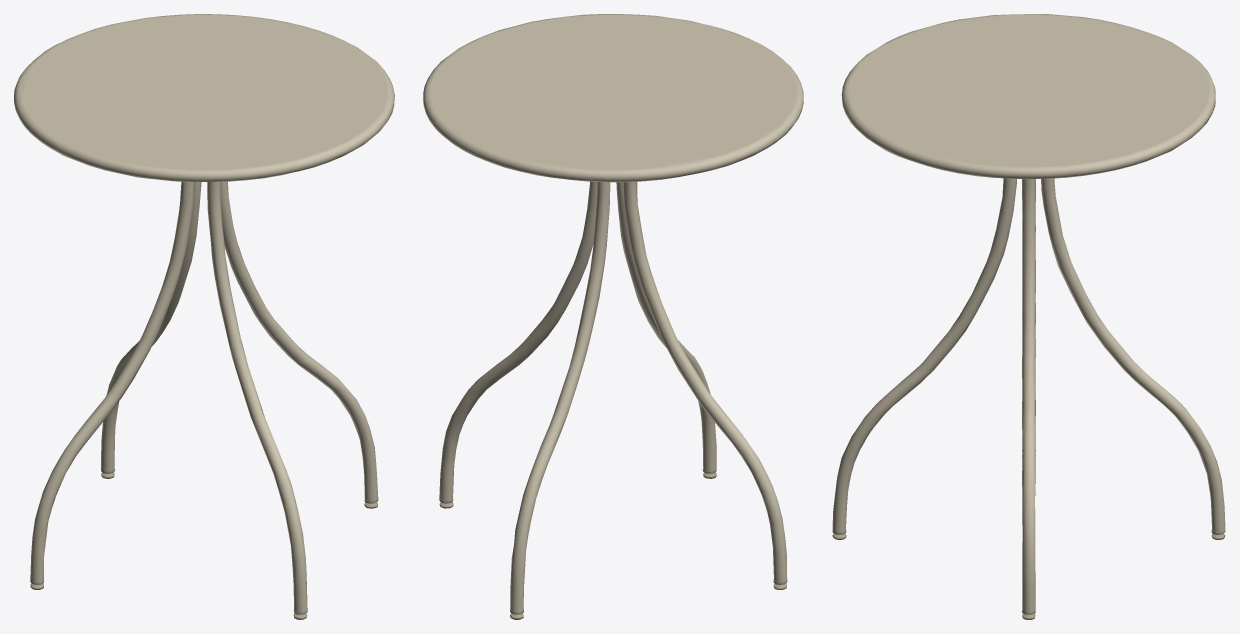
Rendered from tanebro_side_table_indoor_outdoor_pale_y.glb.
The picture shows the model from 3 angles, left to right: view 1: azimuth 30°, elevation 25°; view 2: azimuth 150°, elevation 25°; view 3: azimuth 270°, elevation 25°; orthographic projection.
Parts seen in each view (by area): view 1: ASY_ART_70605162_S01_NV01, ASY_LPT03_70605162_S01_NV01, ASY_LPT04_70605162_S01_NV01, ASY_LPT02_70605162_S01_NV01, ASY_LPT01_70605162_S01_NV01; view 2: ASY_ART_70605162_S01_NV01, ASY_LPT04_70605162_S01_NV01, ASY_LPT01_70605162_S01_NV01, ASY_LPT02_70605162_S01_NV01, ASY_LPT03_70605162_S01_NV01; view 3: ASY_ART_70605162_S01_NV01, ASY_LPT02_70605162_S01_NV01, ASY_LPT03_70605162_S01_NV01, ASY_LPT01_70605162_S01_NV01.
Part boxes in pixels (x1,y1,x2,y2): ASY_ART_70605162_S01_NV01: (14, 14, 394, 182); ASY_LPT03_70605162_S01_NV01: (207, 182, 307, 619); ASY_LPT04_70605162_S01_NV01: (30, 181, 194, 589); ASY_LPT02_70605162_S01_NV01: (220, 181, 378, 508); ASY_LPT01_70605162_S01_NV01: (101, 182, 201, 478); ASY_ART_70605162_S01_NV01: (423, 14, 803, 182); ASY_LPT04_70605162_S01_NV01: (623, 181, 787, 589); ASY_LPT01_70605162_S01_NV01: (510, 182, 610, 619); ASY_LPT02_70605162_S01_NV01: (439, 181, 597, 508); ASY_LPT03_70605162_S01_NV01: (616, 182, 716, 478); ASY_ART_70605162_S01_NV01: (841, 14, 1215, 179); ASY_LPT02_70605162_S01_NV01: (1022, 179, 1035, 619); ASY_LPT03_70605162_S01_NV01: (832, 178, 1016, 539); ASY_LPT01_70605162_S01_NV01: (1041, 178, 1225, 539).
Size of the model in its own units: 0.4825 by 0.6054 by 0.4829.
Materials: 5 (5 with a texture image).
